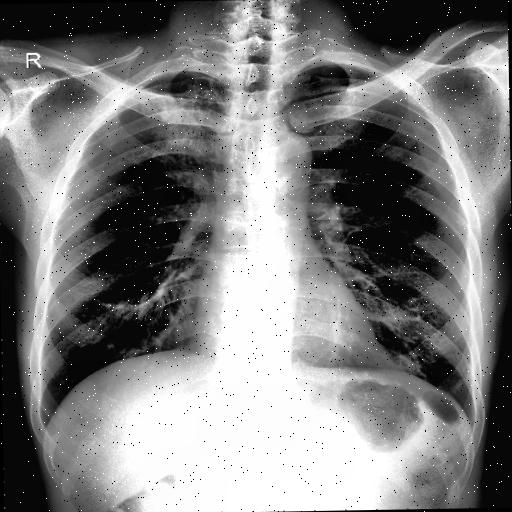13- Pulmonary fibrosis: (170, 81, 224, 179), (166, 114, 204, 151)
2- Calcification: (448, 366, 478, 394)
7- Lung Opacity: (164, 90, 212, 143)
9- Other lesion: (166, 114, 204, 151), (448, 366, 478, 394)
